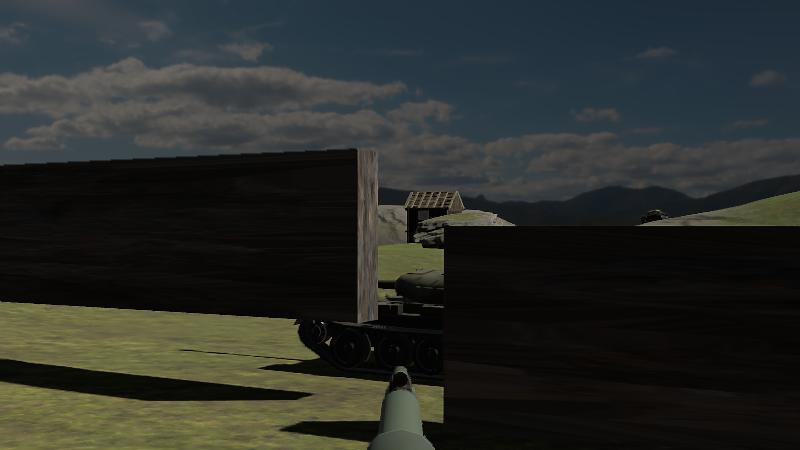Tank: (295, 267, 444, 383)
